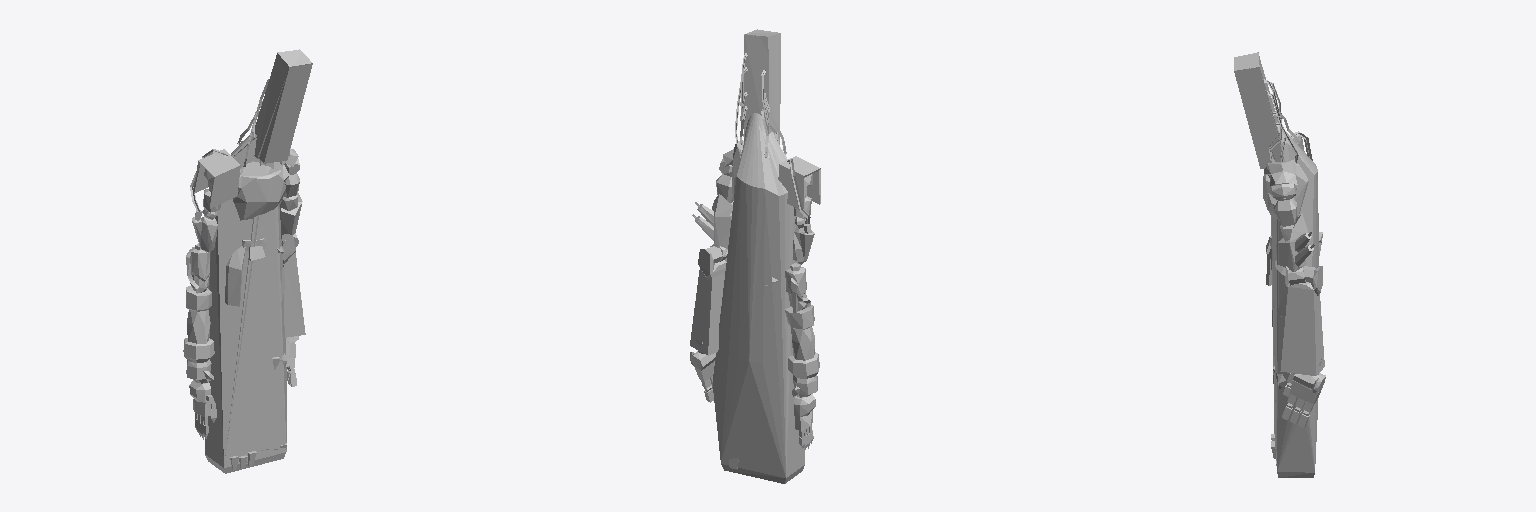
Rendered from Swordsmachine.obj.
3 views of the same model, side by side, from view 1: azimuth 30°, elevation 25°; view 2: azimuth 150°, elevation 25°; view 3: azimuth 270°, elevation 25° (orthographic).
Parts seen in each view (by area): view 1: UCX_1_Coll1, Swordsmachine; view 2: UCX_1_Coll1, Swordsmachine; view 3: Swordsmachine, UCX_1_Coll1.
Part boxes in pixels (left/top/right/bottom): UCX_1_Coll1: left=205, top=49, right=312, bottom=473; Swordsmachine: left=183, top=50, right=312, bottom=469; UCX_1_Coll1: left=713, top=29, right=804, bottom=483; Swordsmachine: left=690, top=32, right=820, bottom=469; Swordsmachine: left=1234, top=52, right=1325, bottom=465; UCX_1_Coll1: left=1234, top=60, right=1318, bottom=477.
Bounding box in the file's own units: 80.33 × 262 × 52.8.